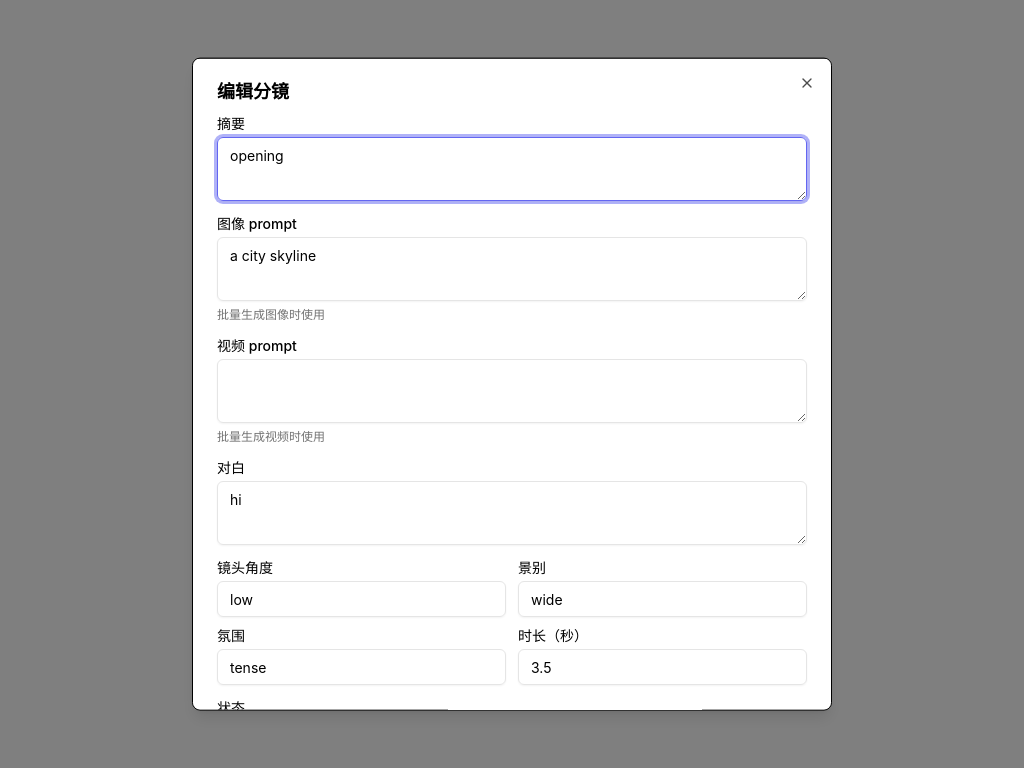
Scenario: EditShotDialog › rejects non-numeric duration with an inline error
This screenshot has width=1024, height=768.
Replace the text in the field labelled "时长（秒）" with "abc" at (662, 667), box 518,649 -> 807,685
(page scrolled)
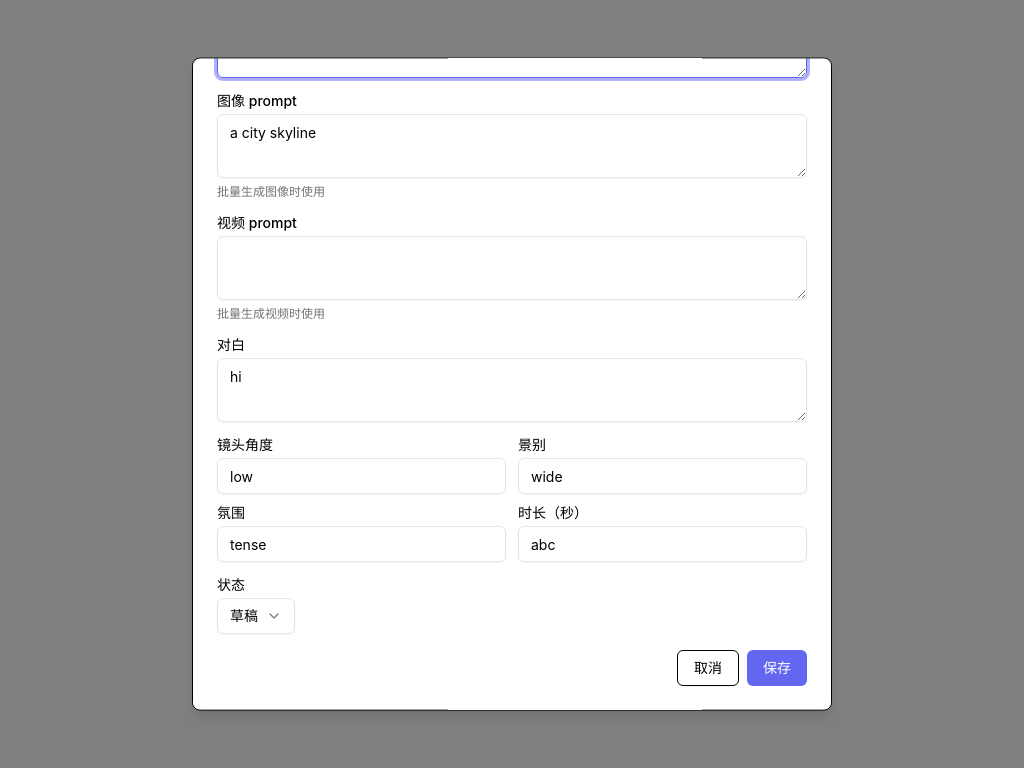
Click the button "保存".
click(777, 668)  # box 747,650 -> 807,686
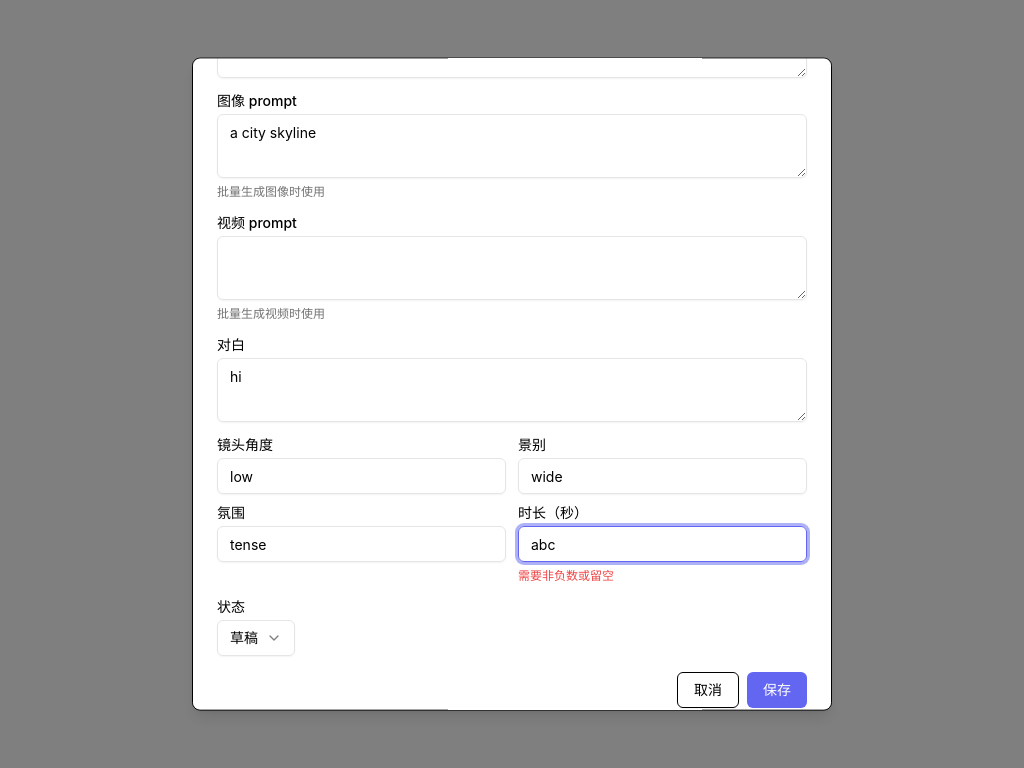
Now the text "需要非负数或留空" is shown, box 518,568 -> 614,583
